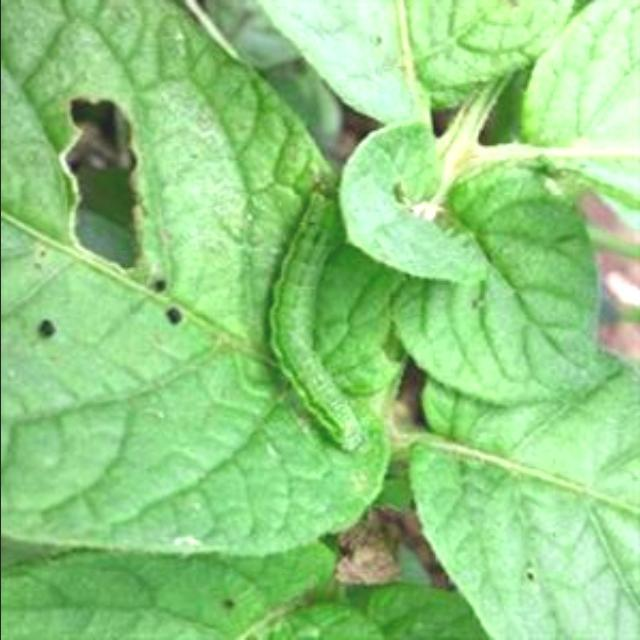Cotton bollworm: (226, 176, 388, 464)
